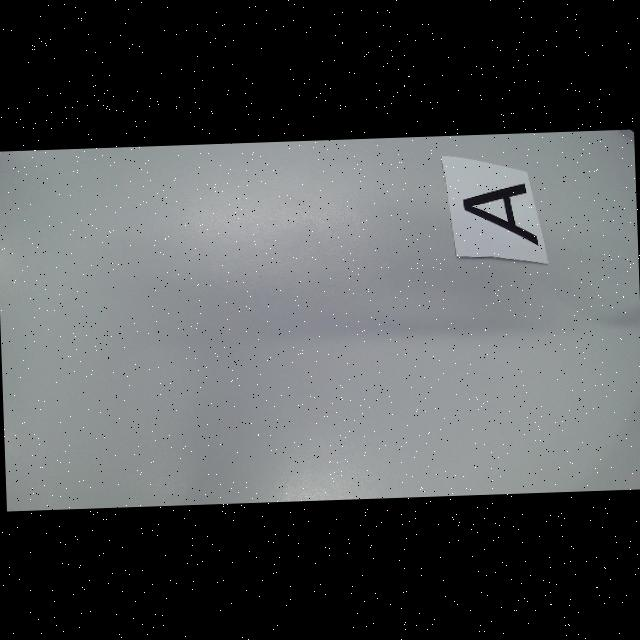FAKE: (462, 182, 539, 247)
